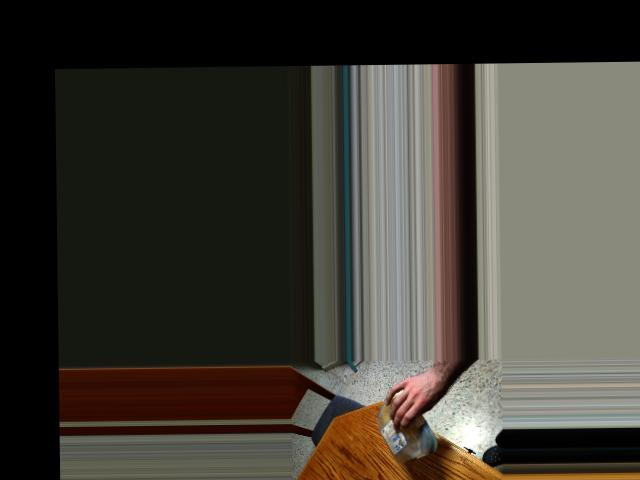cheese: (379, 399, 420, 457)
